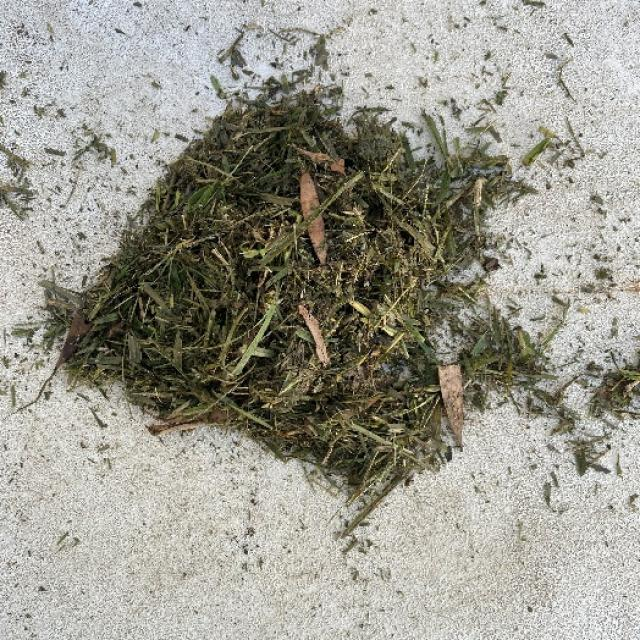organik: (88, 78, 528, 510)
